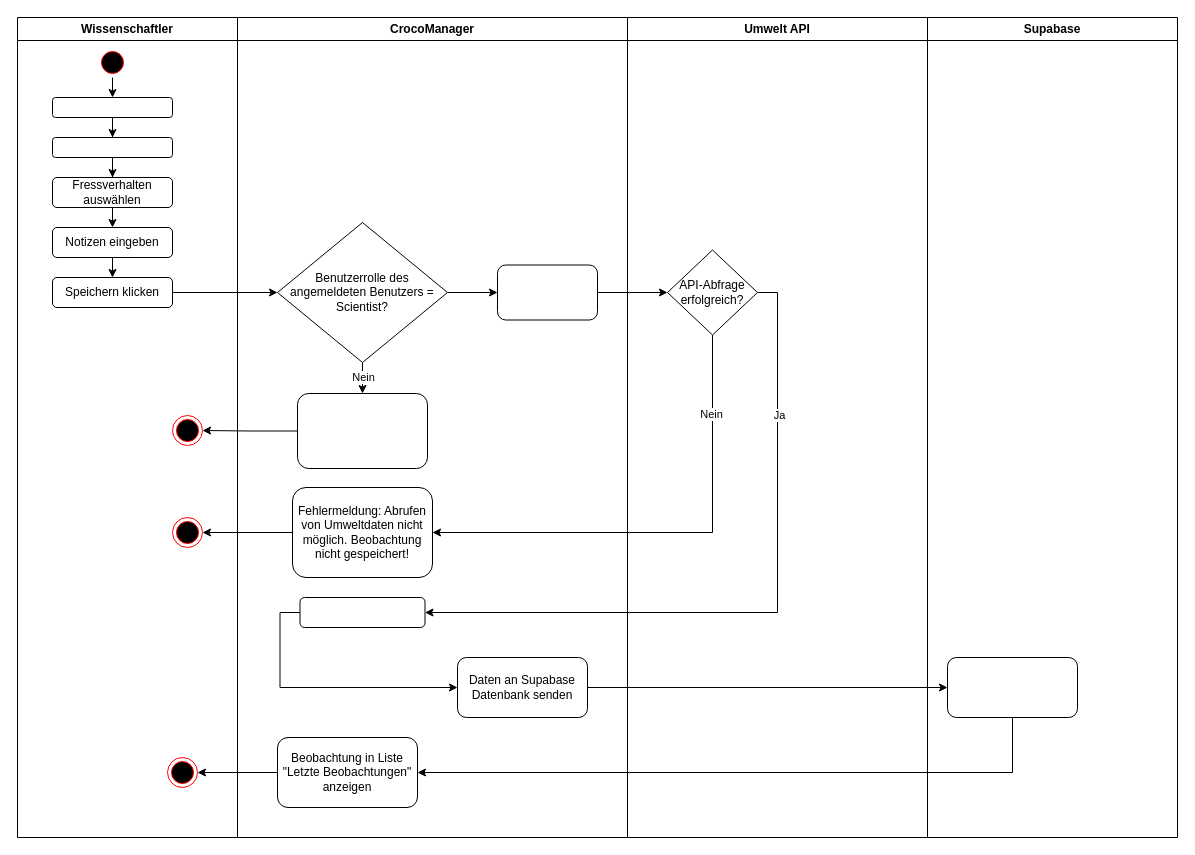
Some shapes in this 1195 by 855 pixel diagram are drawn without their labels. The shapes that lost their labels are listed below. From the top down, each one's centre as x and y in pixels, then its label:
At pixel 112 107: "Tier auswählen".
At pixel 112 147: "Futterplan auswählen".
At pixel 547 292: "Abrufen von Umweltdaten".
At pixel 362 430: "Fehlermeldung: Keine Berechtigung eine Beobachtung zu dokumentieren".
At pixel 362 612: "Daten aggregieren".
At pixel 1012 687: "Daten speichern".
